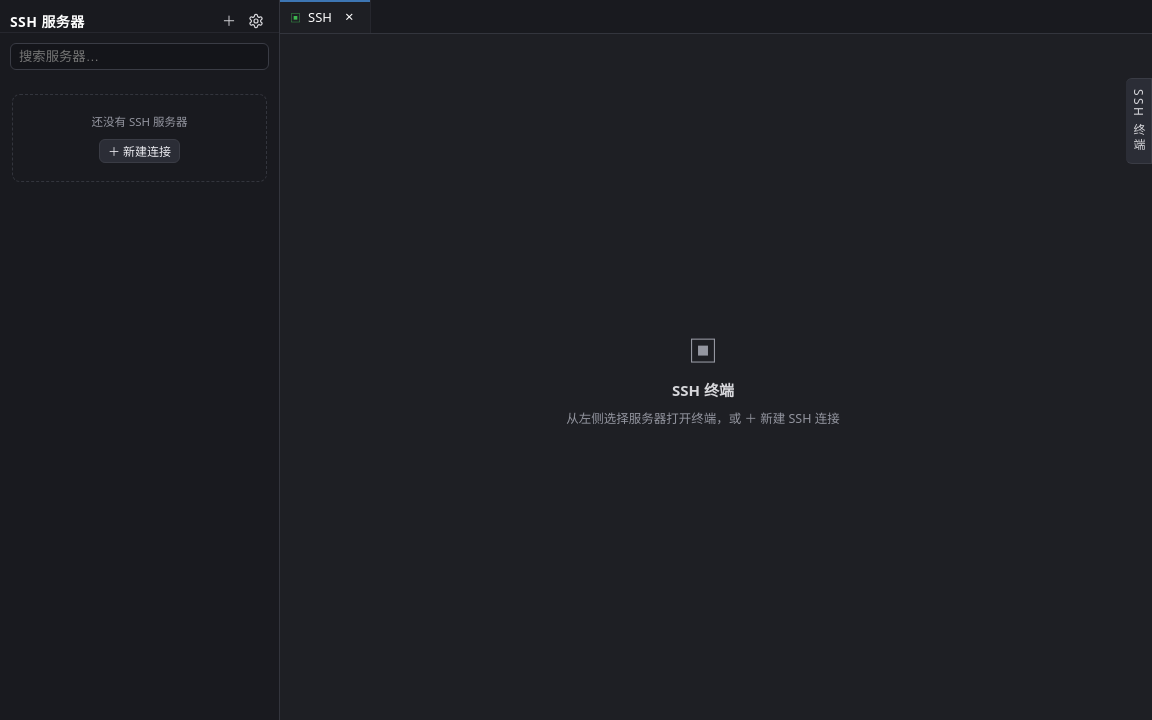
Test case: ＋ 新建与空态 › 零连接 → 空态提示 + 「新建连接」按钮直达对话框
This screenshot has width=1152, height=720.
Expected: the element with class "ssh-srv-body" is shown, [12, 94, 267, 182]
Expected: the text "还没有 SSH 服务器" is shown, [91, 113, 188, 129]
Step 1. Click the button "＋ 新建连接" → (139, 151), box [99, 139, 180, 163]
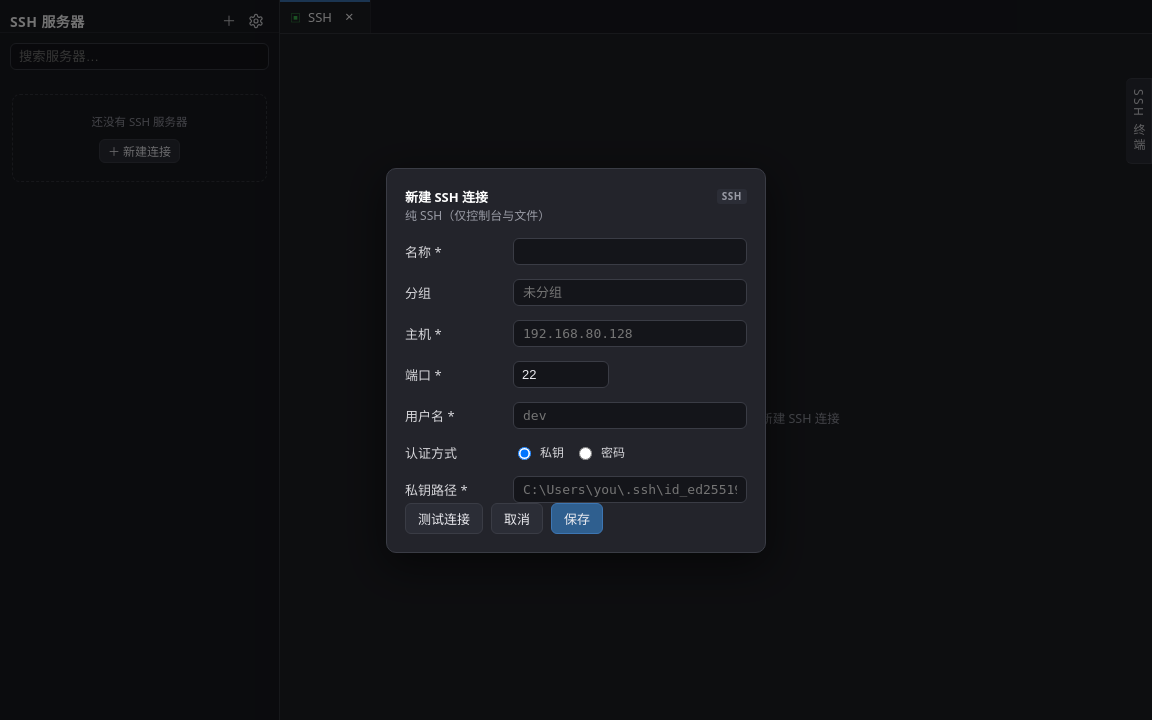
Expected: the dialog "新建 SSH 连接" is shown, [386, 168, 766, 552]
